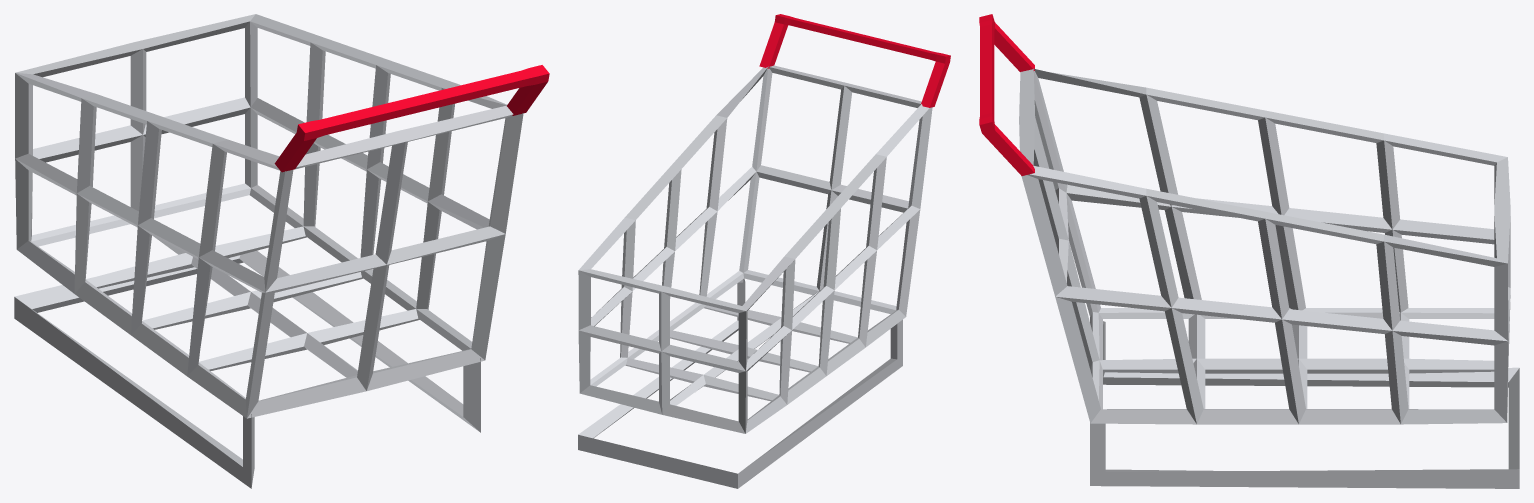
File: caddie.fbx
3 views of the same model, side by side, from view 1: azimuth 30°, elevation 25°; view 2: azimuth 150°, elevation 25°; view 3: azimuth 270°, elevation 25° (orthographic). The views are drawn at different scales.
Parts seen in each view (by area): view 1: Cube.010; view 2: Cube.010; view 3: Cube.010.
Part boxes in pixels (left/top/right/bottom): Cube.010: left=14, top=14, right=549, bottom=488; Cube.010: left=578, top=14, right=950, bottom=488; Cube.010: left=979, top=14, right=1519, bottom=488.
Size of the model in its own units: 151 by 320 by 242.
